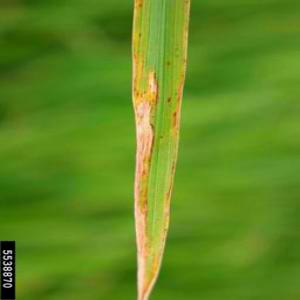2 BacterialBlight: (126, 1, 191, 300)
